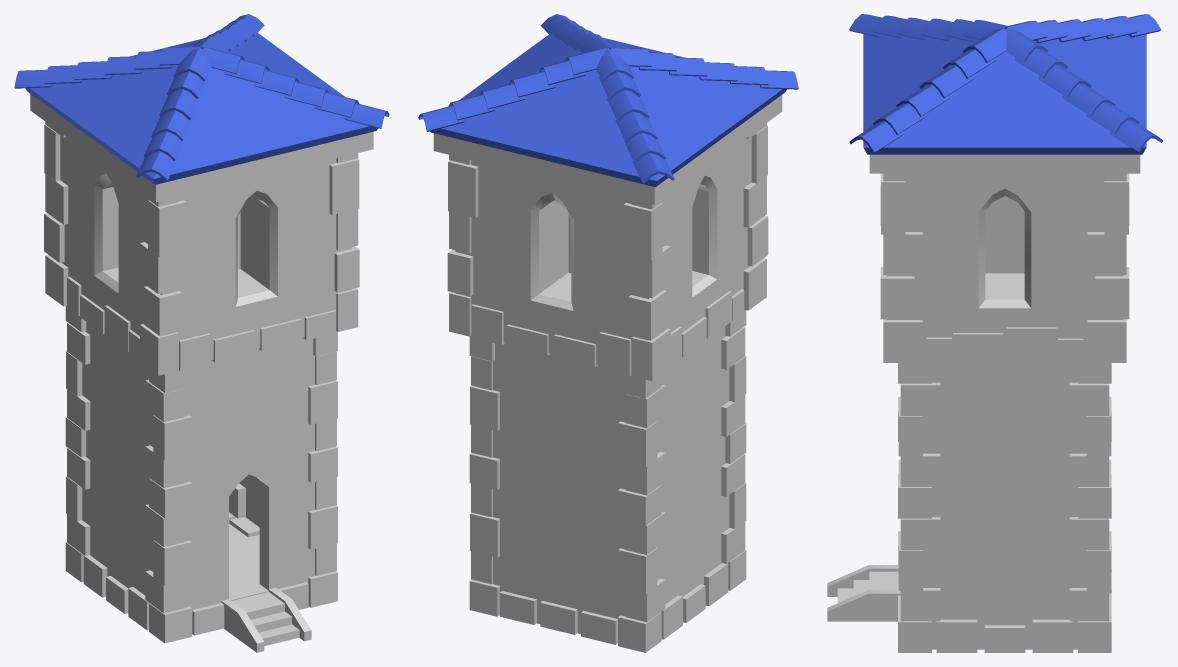
Rendered from Stone_Towerfbx.fbx.
The picture shows the model from 3 angles, left to right: view 1: azimuth 30°, elevation 25°; view 2: azimuth 150°, elevation 25°; view 3: azimuth 270°, elevation 25°; orthographic projection. The views are drawn at different scales.
Visible parts, largest first — view 1: WatchTower_SecondAge_Level1; view 2: WatchTower_SecondAge_Level1; view 3: WatchTower_SecondAge_Level1.
Boxes of the visible parts, box(x1,y1,x2,y2) form: WatchTower_SecondAge_Level1: box(14, 14, 389, 652); WatchTower_SecondAge_Level1: box(418, 14, 798, 652); WatchTower_SecondAge_Level1: box(827, 14, 1163, 652).
Size of the model in its own units: 117 by 237 by 125.
